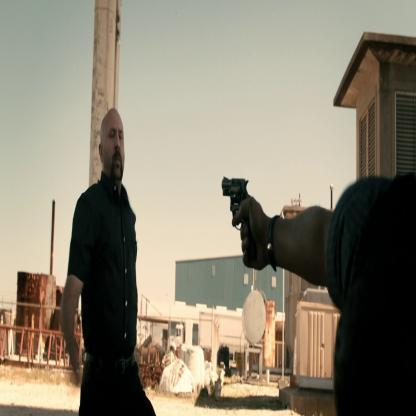gun: (218, 160, 265, 300)
